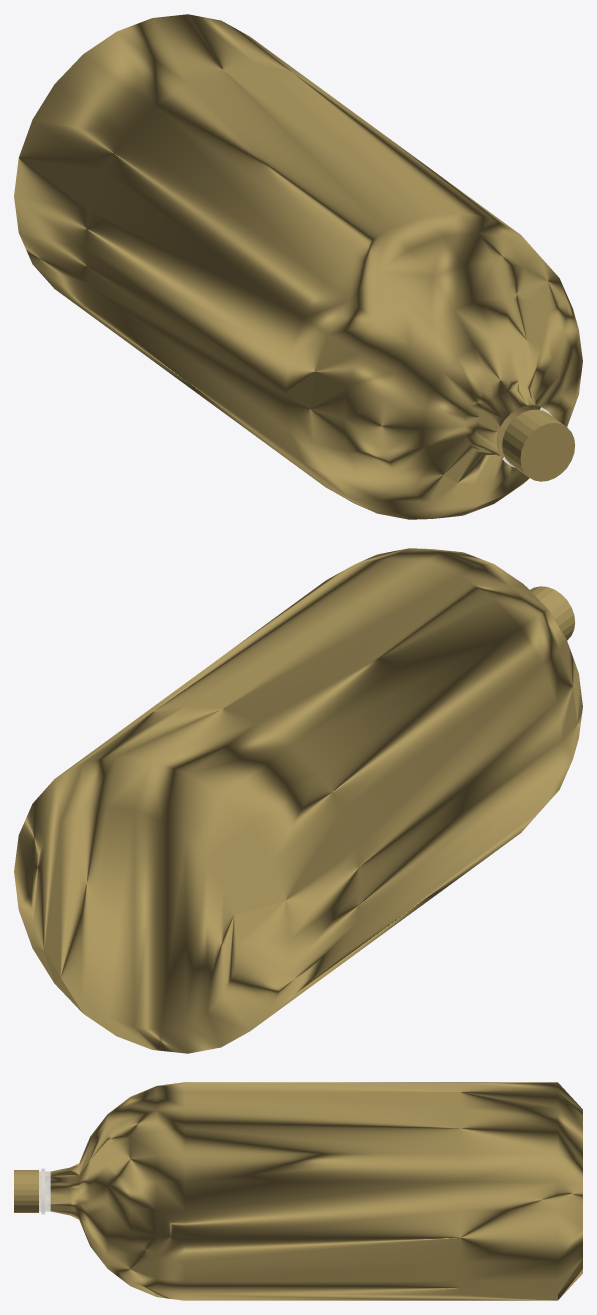
File: model_align.obj
3 renders of one model, top to bottom at view 1: azimuth 30°, elevation 25°; view 2: azimuth 150°, elevation 25°; view 3: azimuth 270°, elevation 25°, orthographic. The views are drawn at different scales.
Size of the model in its own units: 0.0928 by 0.0928 by 0.2406.
